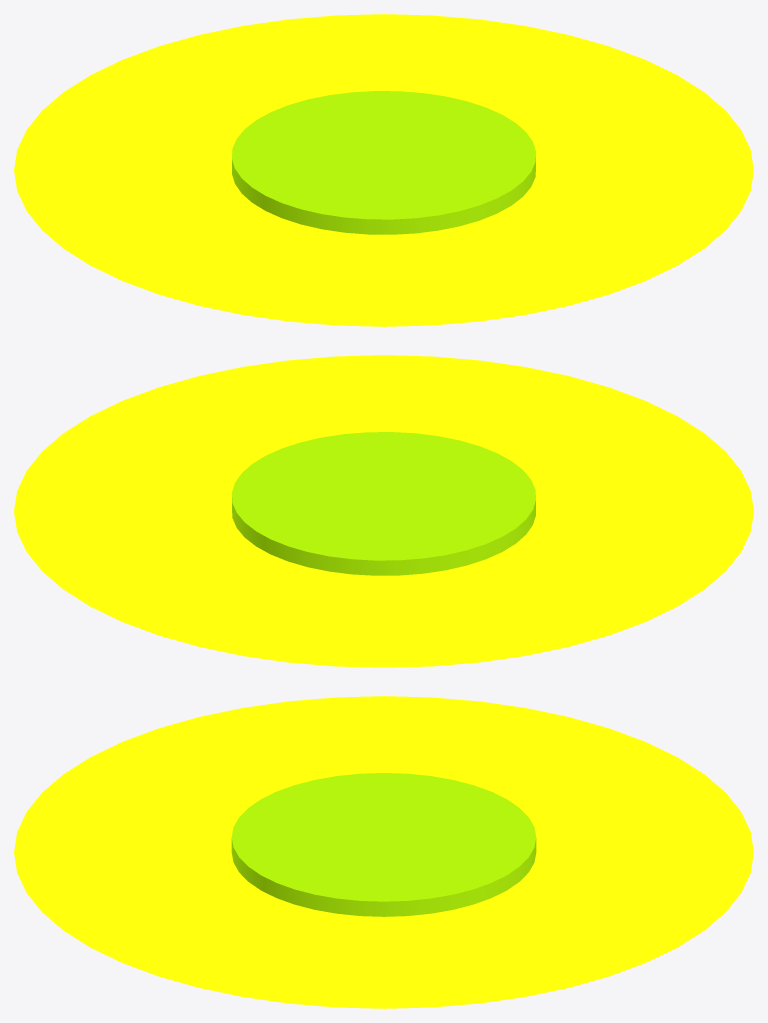
The model's file is pad-7fff00.glb.
3 renders of one model, top to bottom at view 1: azimuth 30°, elevation 25°; view 2: azimuth 150°, elevation 25°; view 3: azimuth 270°, elevation 25°, orthographic.
Visible parts, largest first — view 1: plat; view 2: plat; view 3: plat.
Part boxes in pixels (x1=…): plat: x1=14, y1=14, x2=753, y2=326; plat: x1=14, y1=355, x2=753, y2=667; plat: x1=14, y1=696, x2=753, y2=1008.
Size of the model in its own units: 3.4 by 0.08 by 3.4.
2 materials, 2 textured.
